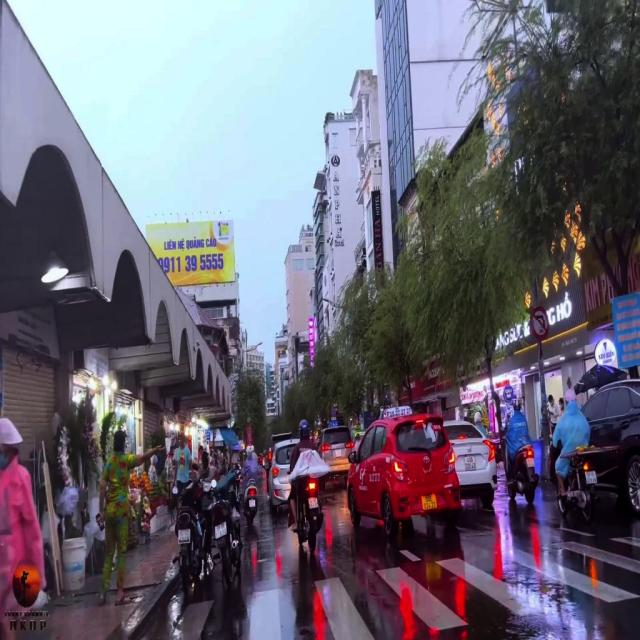cam_o_to_re_trai: (530, 306, 548, 340)
